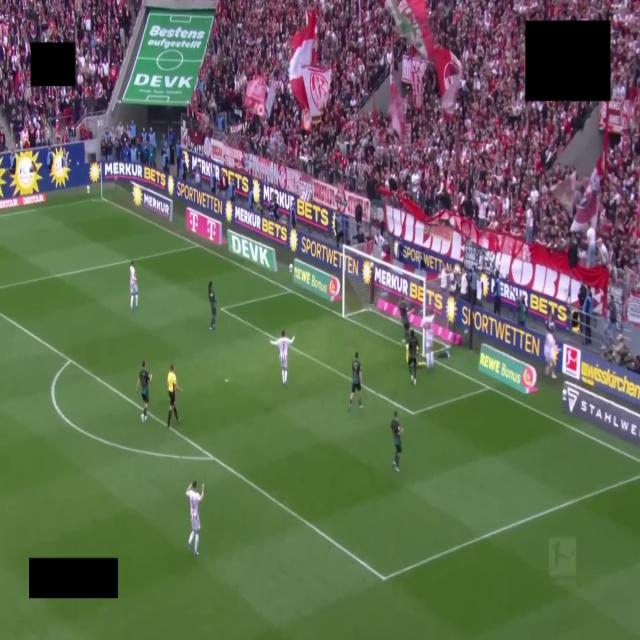player: (186, 481, 204, 555), (271, 330, 294, 384), (136, 361, 152, 422), (349, 352, 362, 410), (544, 322, 557, 379), (391, 411, 402, 471), (422, 315, 434, 367), (408, 329, 418, 383), (399, 300, 409, 343), (208, 281, 216, 331), (130, 261, 137, 310), (406, 344, 409, 363)
referee: (167, 364, 180, 428)
